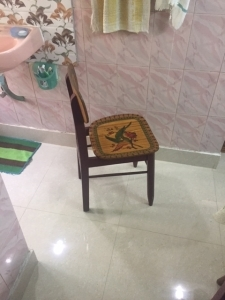chair: (65, 64, 160, 213)
